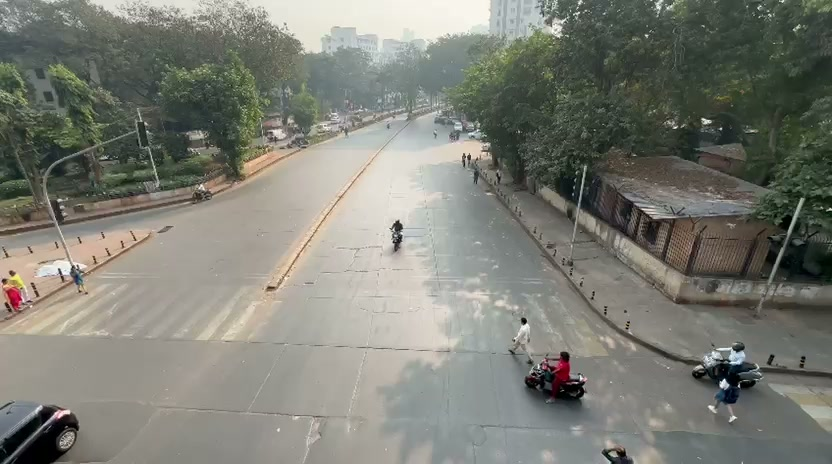car: (1, 400, 80, 463)
motorcycle: (691, 348, 765, 387), (526, 361, 588, 402), (544, 368, 587, 401)
pedestrian: (710, 371, 741, 424), (5, 270, 28, 312), (549, 352, 571, 393), (509, 316, 531, 356), (728, 341, 747, 380), (71, 264, 88, 295), (611, 446, 634, 464), (390, 218, 404, 243)
